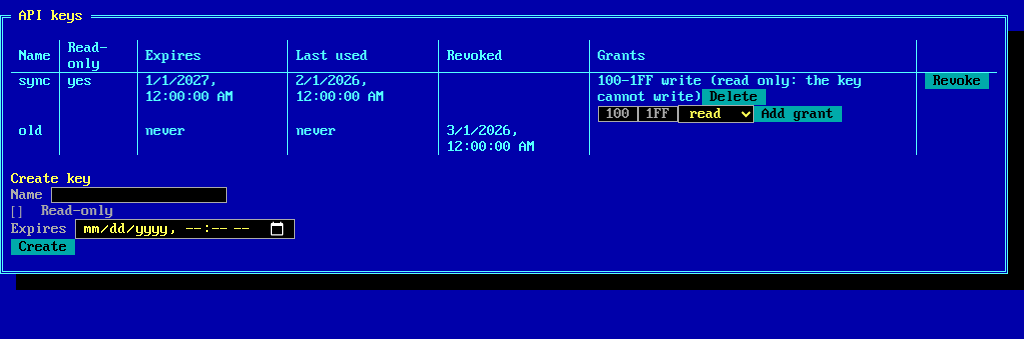
Scenario: add grant sends the range upper-cased; a server error is shown
Type "2ff" into the field with placeholder "100" at point(618, 114), box [598,106,638,122]
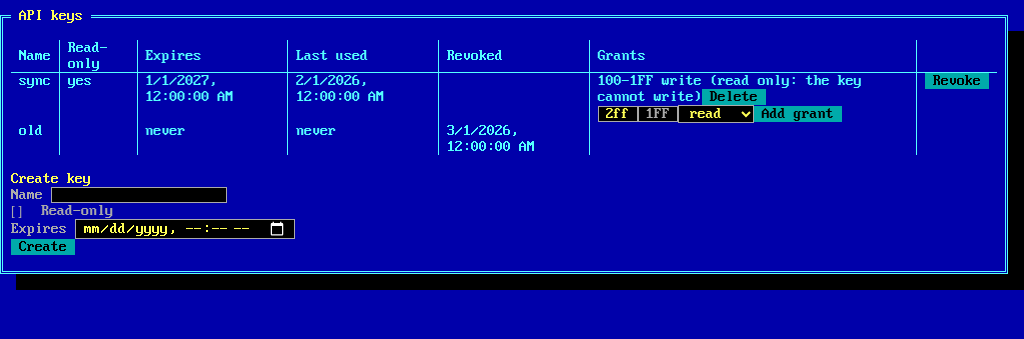
Type "3aa" into the field with placeholder "1FF" at point(658, 114), box [638,106,678,122]
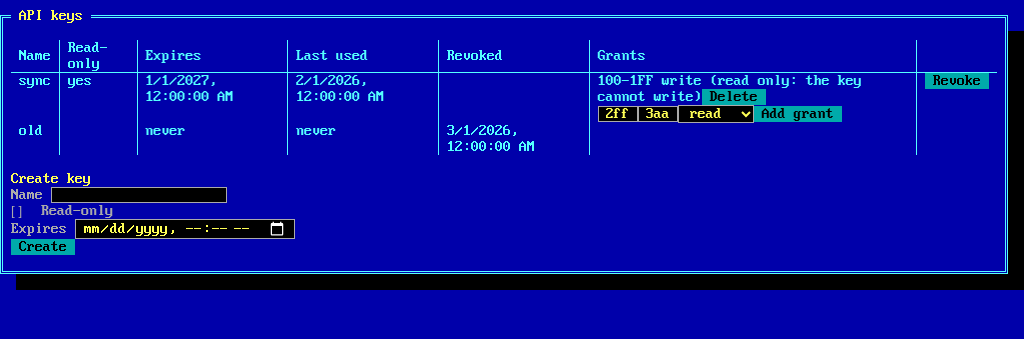
Select "write" in the dropdown named "Access" at point(716, 114), box [678,105,754,123]
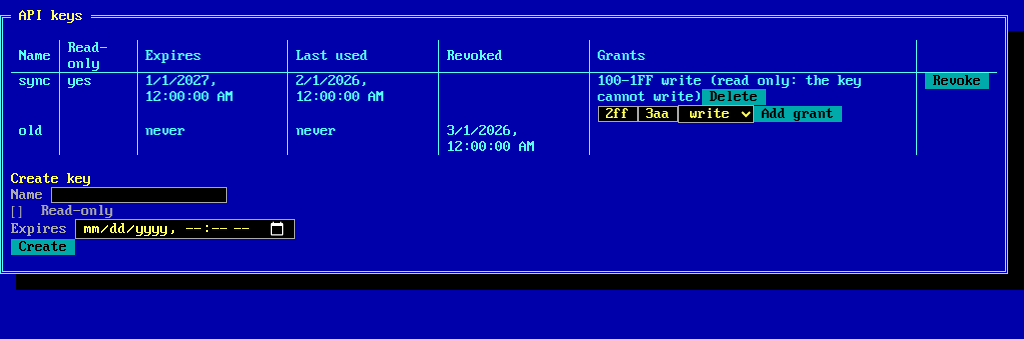
Submit the form "Add grant", box [598,105,842,123]
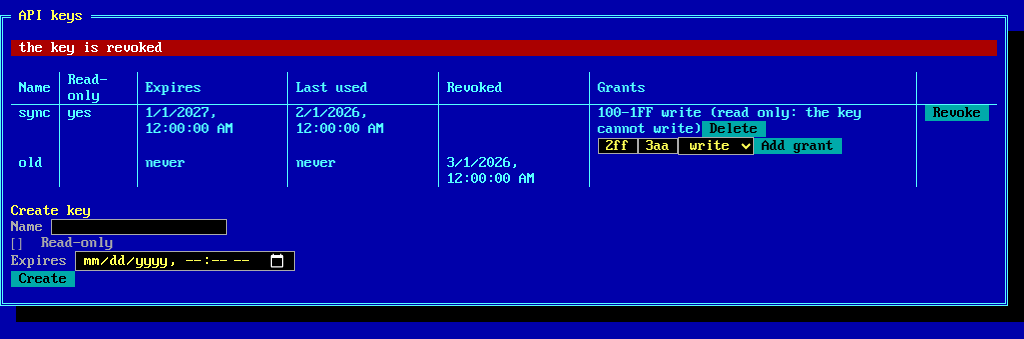
Check: the message "the key is revoked" is shown, box [11,40,997,56]
